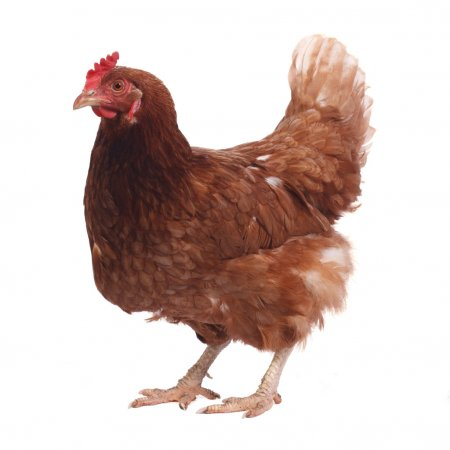chicken: (69, 33, 378, 420)
